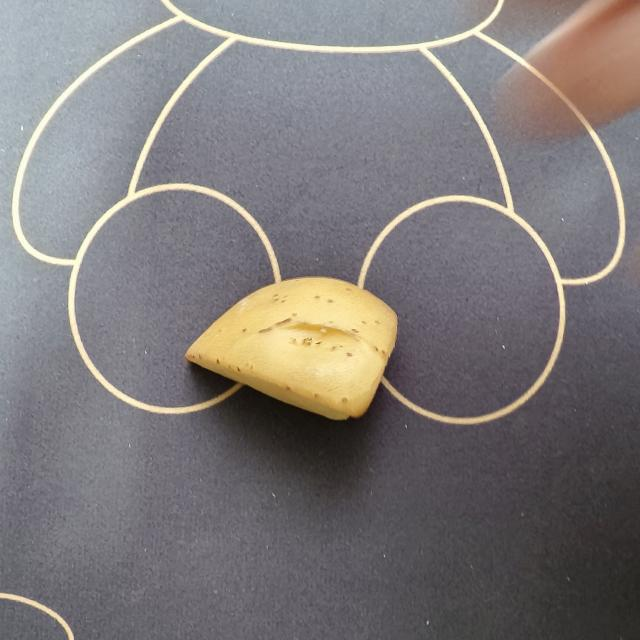-Kitchen waste - potato-: (182, 272, 402, 427)
